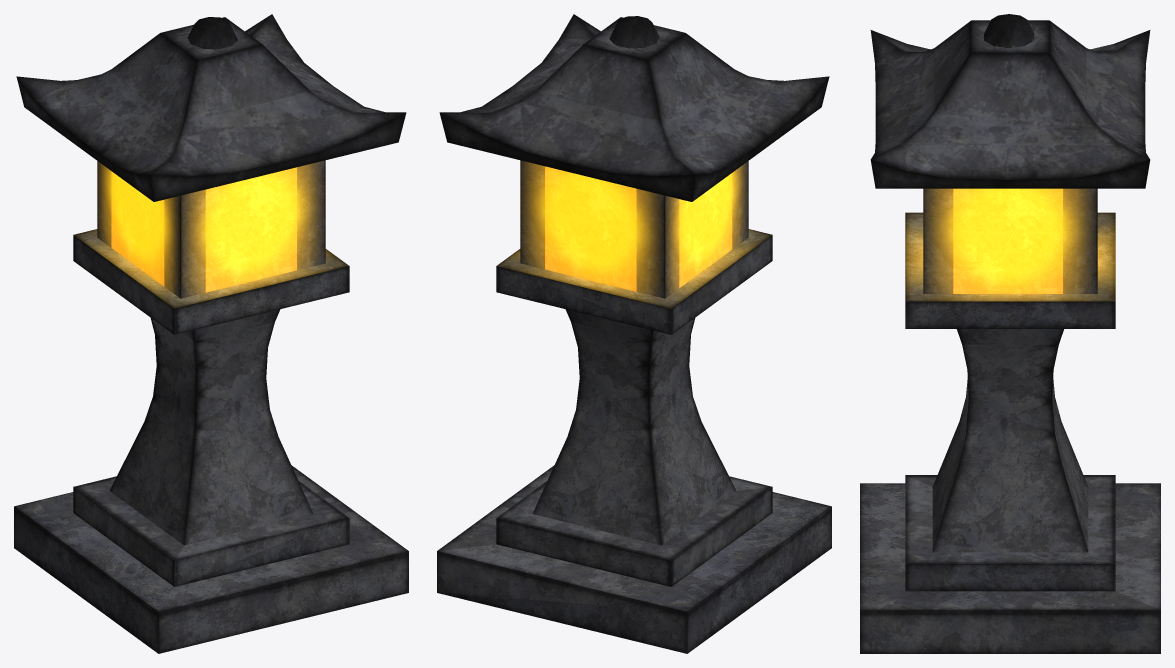
File: japanese_lantern_very_lowpoly.glb
3 views of the same model, side by side, from view 1: azimuth 30°, elevation 25°; view 2: azimuth 150°, elevation 25°; view 3: azimuth 270°, elevation 25° (orthographic). The views are drawn at different scales.
Visible parts, largest first — view 1: SM_Lantern; view 2: SM_Lantern; view 3: SM_Lantern.
Part boxes in pixels (x1,y1,x2,y2): SM_Lantern: (14, 14, 408, 653); SM_Lantern: (437, 14, 831, 653); SM_Lantern: (860, 14, 1160, 653).
Size of the model in its own units: 0.511 by 1.05 by 0.5.
Materials: 1 (1 with a texture image).
